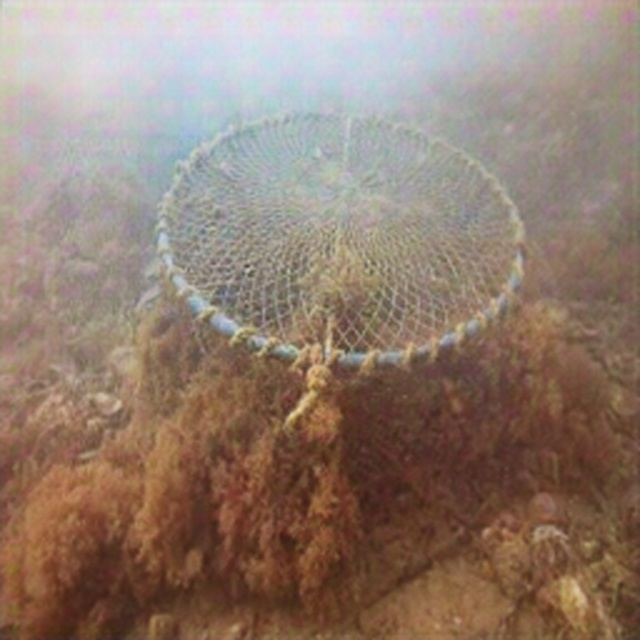mine: (154, 107, 526, 501)
